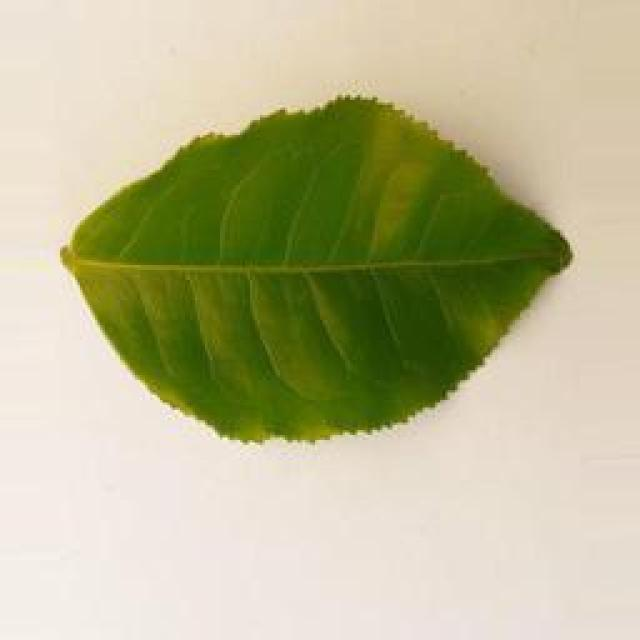Healthy: (47, 104, 602, 455)
